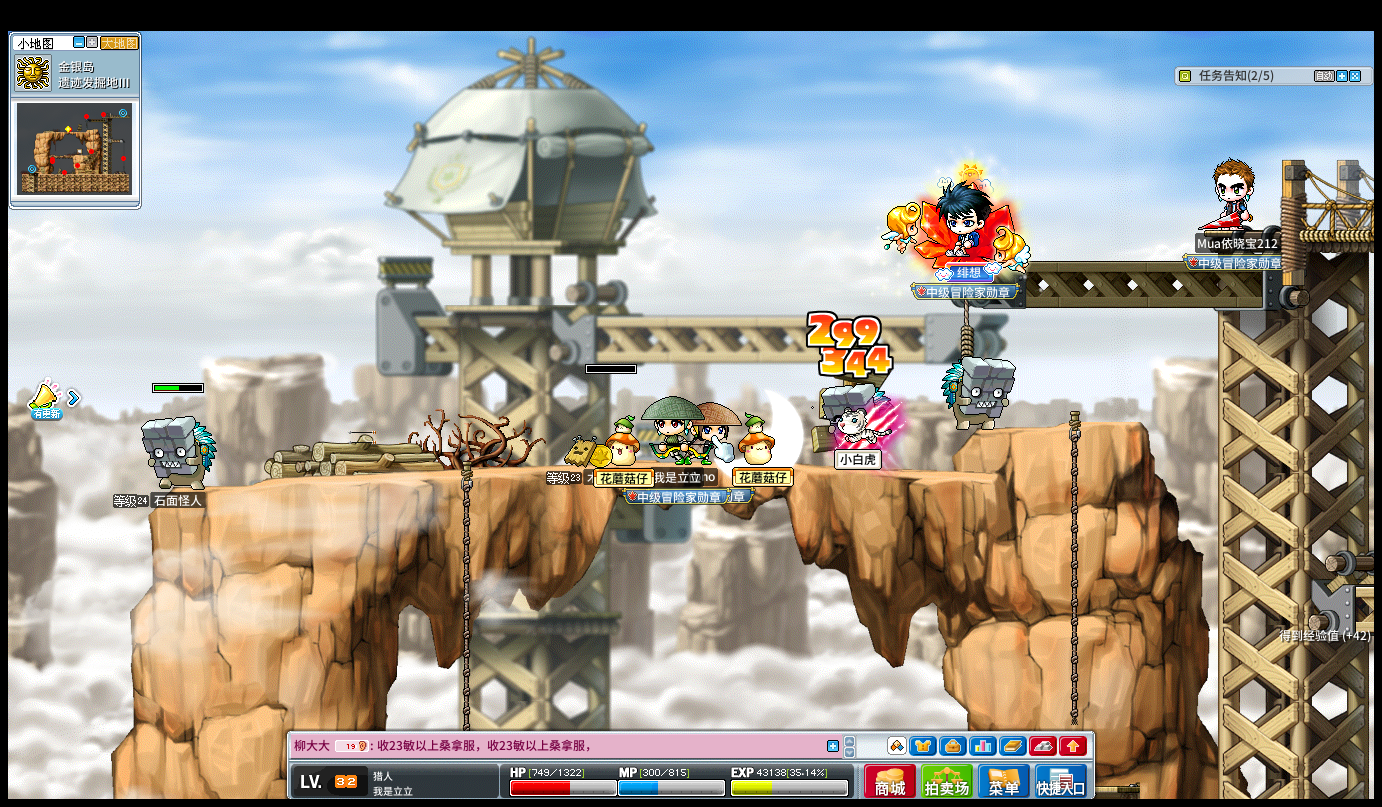floor: (187, 455, 1036, 478), (980, 416, 1141, 433), (981, 420, 1145, 435)
monster: (817, 382, 886, 468), (941, 354, 1016, 431), (140, 416, 217, 489)
rope: (1065, 407, 1081, 738), (458, 457, 473, 795), (1067, 409, 1080, 671), (460, 458, 472, 677), (1066, 618, 1080, 722)
